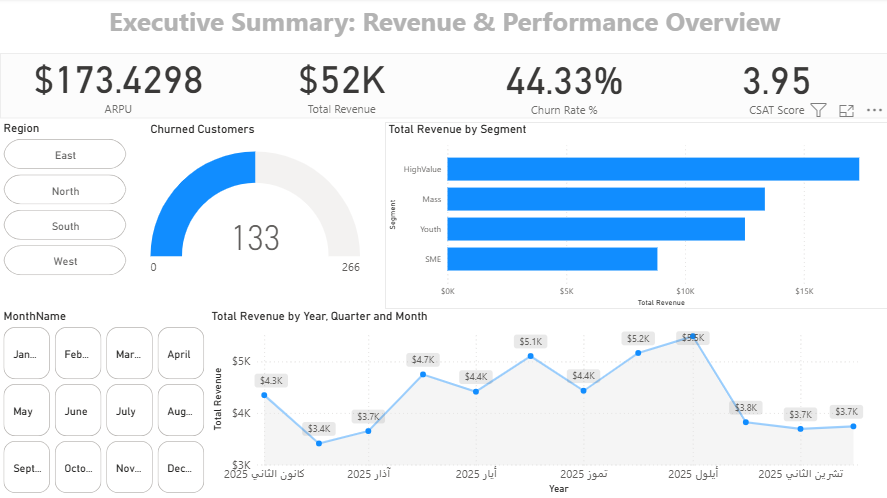

The dashboard page shown, as its layout file describes it:
{"tool":"powerbi","page":{"name":"Page 1","canvas":[1280,720],"ordinal":0},"visuals":[{"type":"card","fields":{"Values":["_Measures.ARPU"]},"box":[10.3,67.6,320.6,105.9],"z":0},{"type":"card","fields":{"Values":["_Measures.Total Revenue"]},"box":[330.9,69.1,322.1,102.9],"z":1000},{"type":"card","fields":{"Values":["_Measures.Churn Rate %"]},"box":[652.9,70.6,320.6,102.9],"z":2000},{"type":"card","fields":{"Values":["_Measures.CSAT Score"]},"box":[957.4,70.6,322.1,102.9],"z":3000},{"type":"lineChart","fields":{"Category":["DimDate.Date.Variation.Date Hierarchy.Year","DimDate.Date.Variation.Date Hierarchy.Quarter","DimDate.Date.Variation.Date Hierarchy.Month","DimDate.Date.Variation.Date Hierarchy.Day"],"Y":["_Measures.Total Revenue"]},"box":[300,448.5,979.4,272.1],"z":4000},{"type":"gauge","fields":{"Y":["_Measures.Churned Customers"]},"box":[211.8,177.9,311.8,245.6],"z":5000},{"type":"clusteredBarChart","fields":{"Category":["DimCustomer.Segment"],"Y":["_Measures.Total Revenue"]},"box":[554.4,177.9,725,270.6],"z":6000},{"type":"advancedSlicerVisual","fields":{"Values":["DimCustomer.Region"]},"box":[0,177.7,187.5,229.9],"z":7000},{"type":"advancedSlicerVisual","fields":{"Values":["DimDate.MonthName"]},"box":[0,448.5,300,272.1],"z":8000},{"type":"textbox","box":[0,2.9,1280.9,67.6],"z":9000},{"type":"shape","box":[0,79.4,1279.4,94.1],"z":10000}]}

Visuals, with their boxes in screenshot pixels (x1, y1, x2, y2), scaled from the page's 1280x720 canvas onto the 887x498 screenshot:
card - _Measures.ARPU: bbox(7, 47, 229, 120)
card - _Measures.Total Revenue: bbox(229, 48, 453, 119)
card - _Measures.Churn Rate %: bbox(452, 49, 675, 120)
card - _Measures.CSAT Score: bbox(663, 49, 886, 120)
lineChart - DimDate.Date.Variation.Date Hierarchy.Year x DimDate.Date.Variation.Date Hierarchy.Quarter: bbox(208, 310, 886, 497)
gauge - _Measures.Churned Customers: bbox(147, 123, 363, 293)
clusteredBarChart - DimCustomer.Segment x _Measures.Total Revenue: bbox(384, 123, 886, 310)
advancedSlicerVisual - DimCustomer.Region: bbox(0, 123, 130, 282)
advancedSlicerVisual - DimDate.MonthName: bbox(0, 310, 208, 497)
textbox: bbox(0, 2, 886, 49)
shape: bbox(0, 55, 886, 120)
